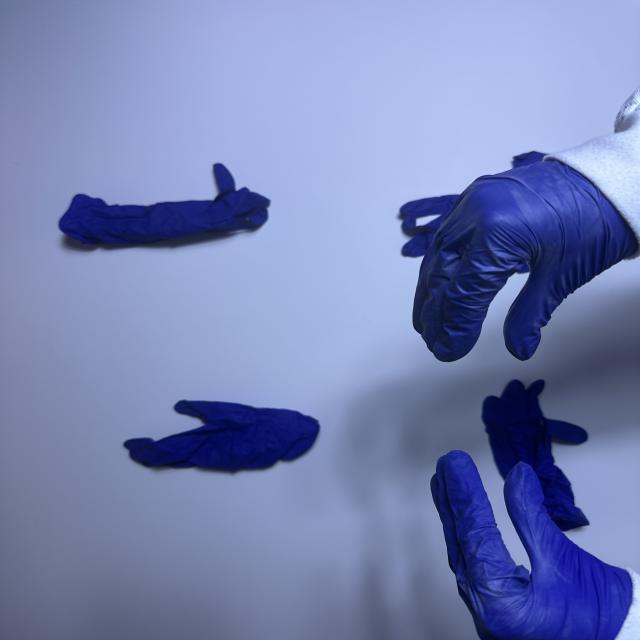gloves_contaminated: (412, 160, 638, 362)
